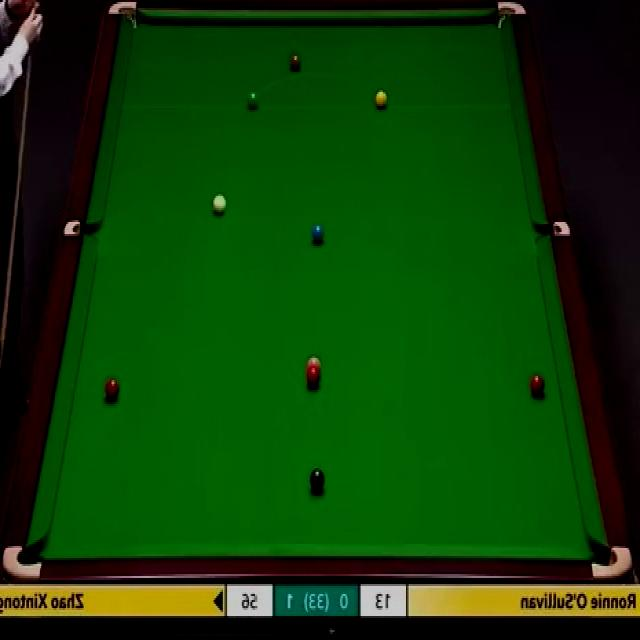black-ball: (308, 468, 326, 490)
blue-ball: (308, 225, 324, 245)
brown-ball: (290, 55, 302, 74)
green-ball: (247, 89, 260, 110)
pink-ball: (307, 356, 322, 370)
red-ball: (104, 376, 122, 401), (529, 372, 546, 397), (306, 367, 319, 387)
white-ball: (214, 194, 226, 215)
yellow-ball: (375, 89, 389, 110)
